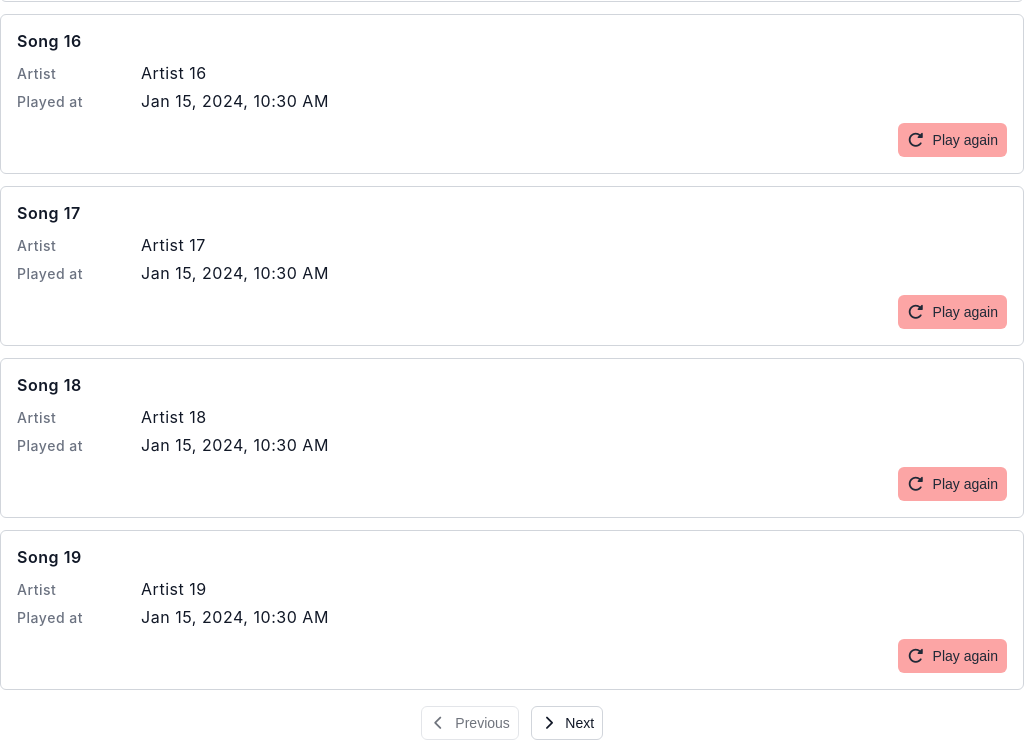
Test case: HistoryView › loads the next page
This screenshot has width=1024, height=740.
(page scrolled)
Step 1. Click the button "Next" → (567, 723), box [531,706,603,739]
(page scrolled)
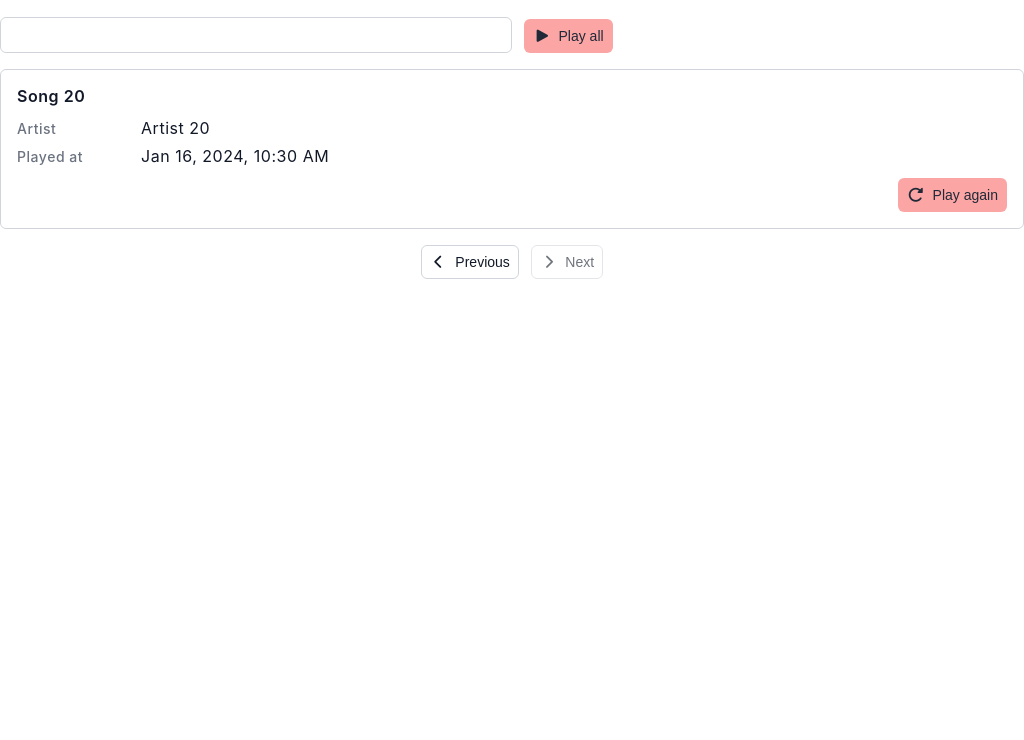
Check: the text "Song 20" is shown, box [17,86,85,106]
